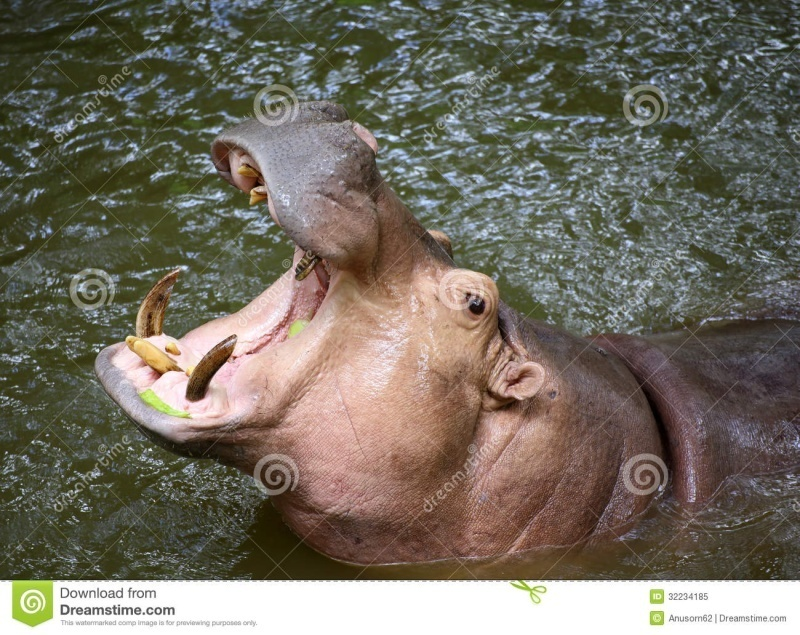hipopotamo: (86, 101, 800, 566)
